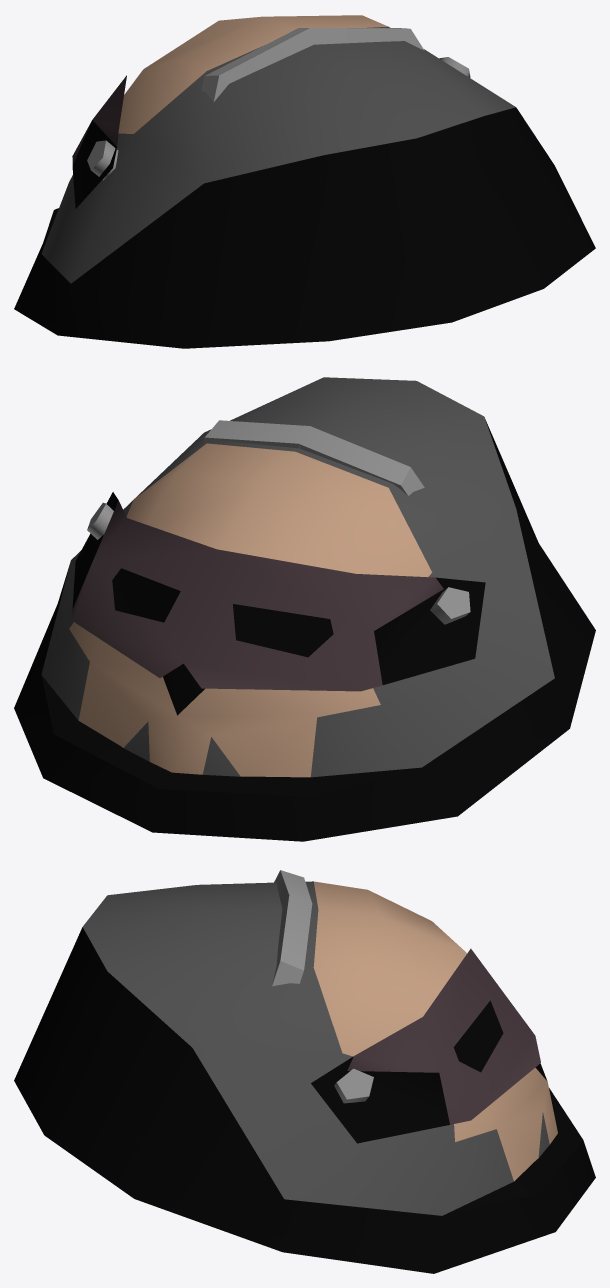
Rendered from hat_skullhelm.glb.
3 views of the same model, one above another, from view 1: azimuth 30°, elevation 25°; view 2: azimuth 150°, elevation 25°; view 3: azimuth 270°, elevation 25° (orthographic). The views are drawn at different scales.
Visible parts, largest first — view 1: hat_skullhelm; view 2: hat_skullhelm; view 3: hat_skullhelm.
Boxes of the visible parts, <box> form: hat_skullhelm: <box>14,15,595,348</box>; hat_skullhelm: <box>14,377,595,841</box>; hat_skullhelm: <box>14,870,595,1273</box>.
Bounding box in the file's own units: 0.4596 × 0.2493 × 0.4655.
